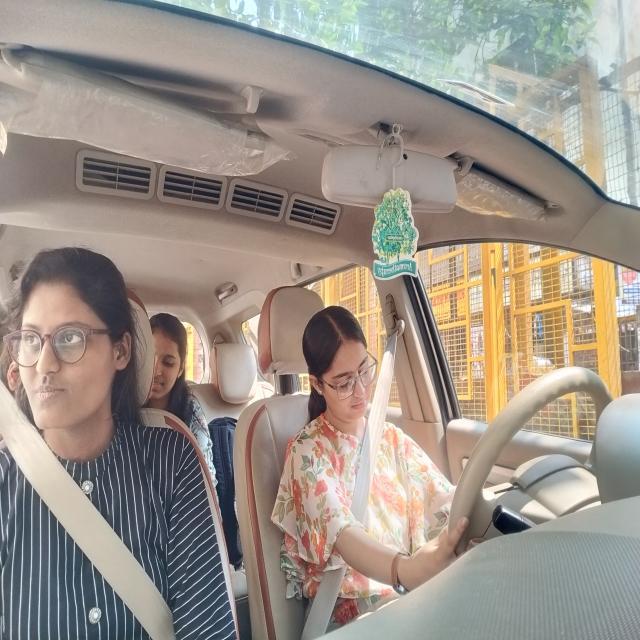drowsy: (300, 301, 380, 430)
person: (9, 246, 134, 436), (150, 309, 190, 402)
